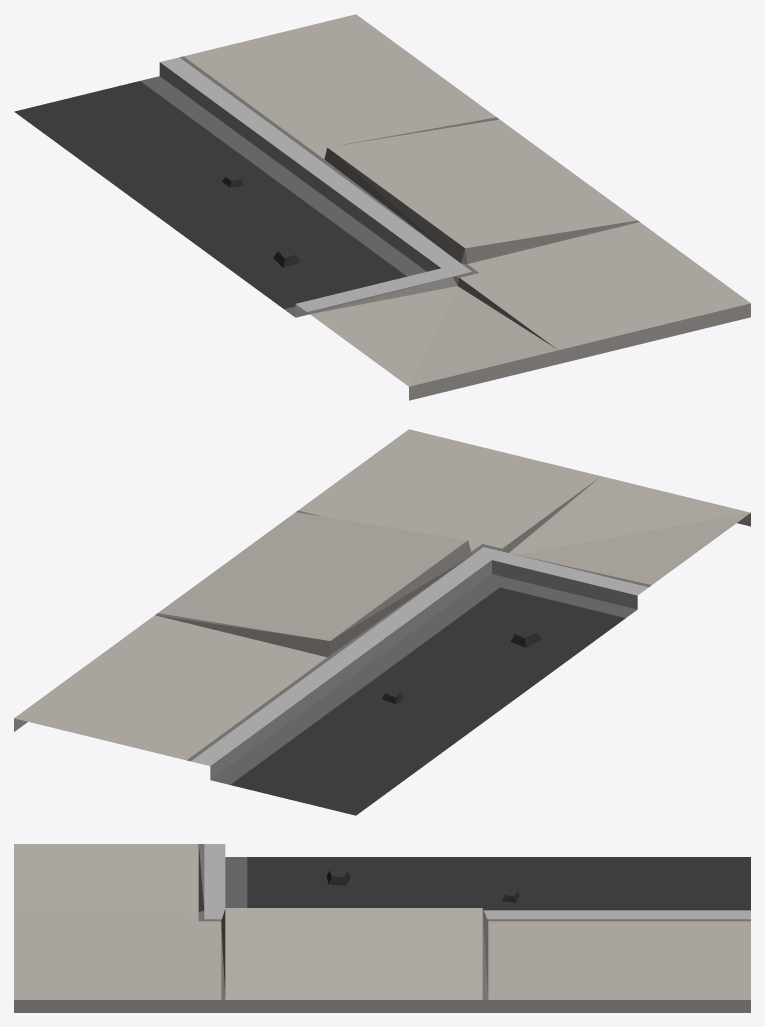
Rendered from SA_Env_Road_Bend_Left_Damaged_01.fbx.
3 views of the same model, one above another, from view 1: azimuth 30°, elevation 25°; view 2: azimuth 150°, elevation 25°; view 3: azimuth 270°, elevation 25° (orthographic). The views are drawn at different scales.
Parts seen in each view (by area): view 1: SA_Env_Road_Bend_Left_Damaged_01; view 2: SA_Env_Road_Bend_Left_Damaged_01; view 3: SA_Env_Road_Bend_Left_Damaged_01.
Boxes of the visible parts, x1,y1,x2,y2 form: SA_Env_Road_Bend_Left_Damaged_01: (14, 14, 750, 400); SA_Env_Road_Bend_Left_Damaged_01: (14, 429, 750, 815); SA_Env_Road_Bend_Left_Damaged_01: (14, 844, 750, 1012).
Size of the model in its own units: 5 by 0.3961 by 10.
1 material, 1 textured.
